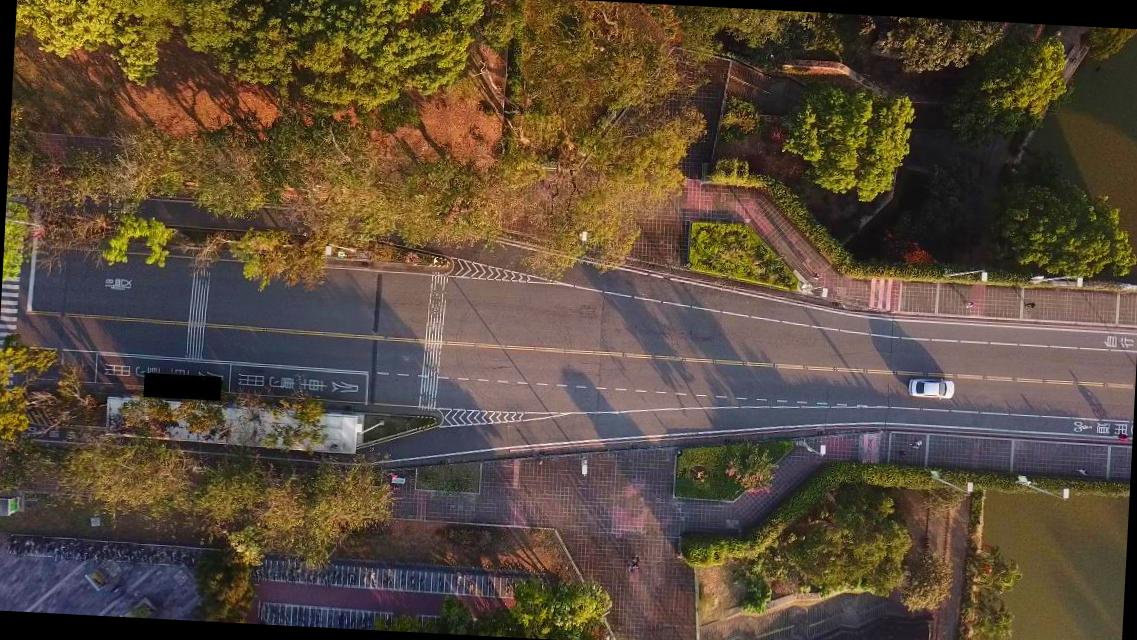vehicle: (908, 376, 955, 399)
